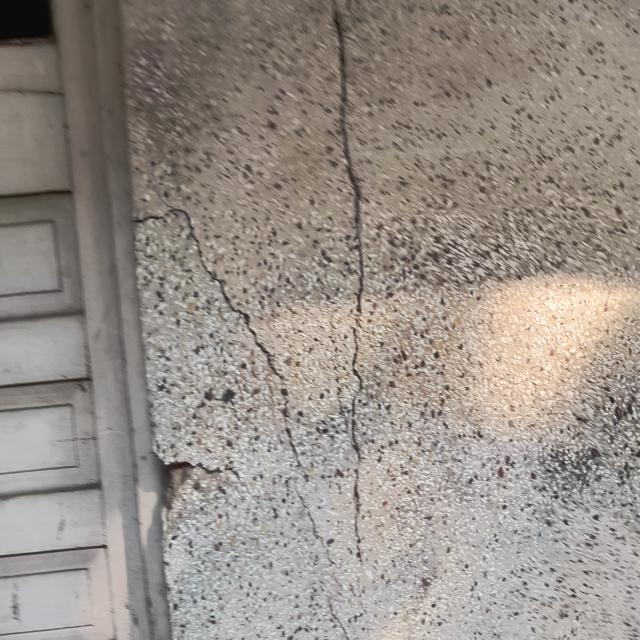Crack: (135, 202, 304, 478), (332, 0, 365, 313), (348, 328, 368, 567)
Spalling: (162, 462, 193, 510)
